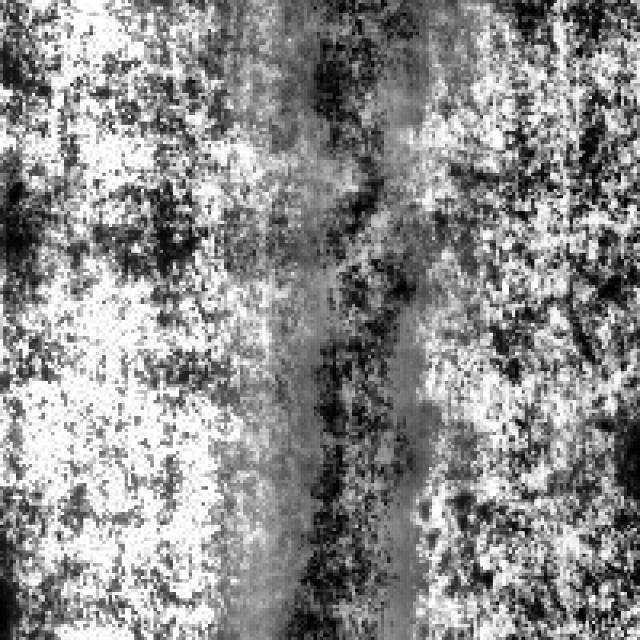Scratches: (294, 237, 429, 637), (284, 0, 454, 163)
